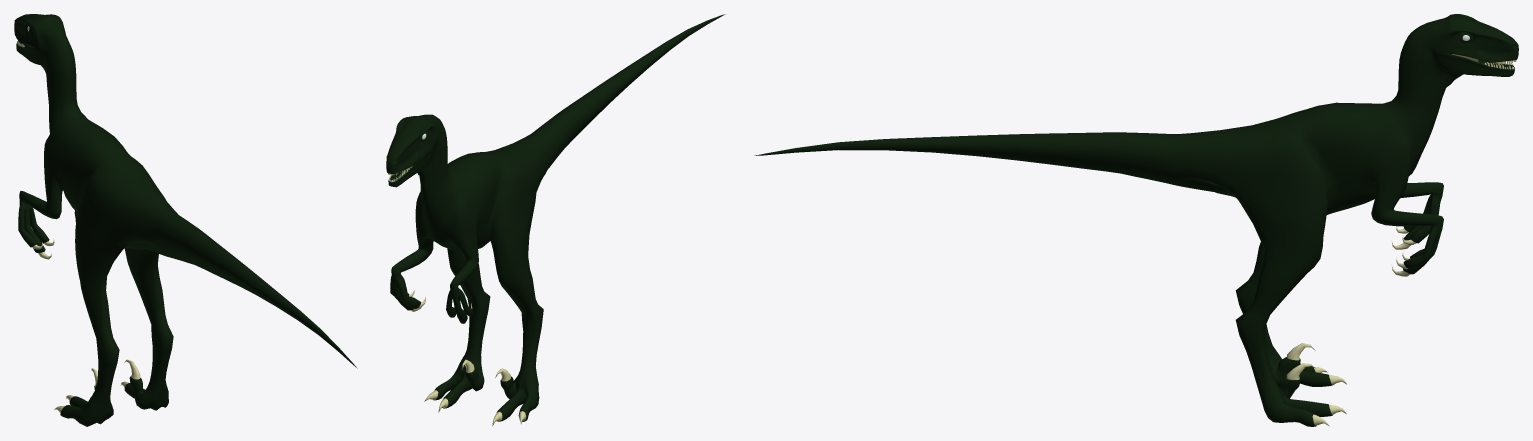
File: deino-low.fbx
3 renders of one model, left to right at view 1: azimuth 30°, elevation 25°; view 2: azimuth 150°, elevation 25°; view 3: azimuth 270°, elevation 25°, orthographic. The views are drawn at different scales.
Visible parts, largest first — view 1: Deinonych_; view 2: Deinonych_; view 3: Deinonych_.
Boxes of the visible parts, x1,y1,x2,y2 form: Deinonych_: (14,14,357,426); Deinonych_: (386,14,725,426); Deinonych_: (754,14,1518,426).
Bounding box in the file's own units: 18.46 × 61.98 × 111.
